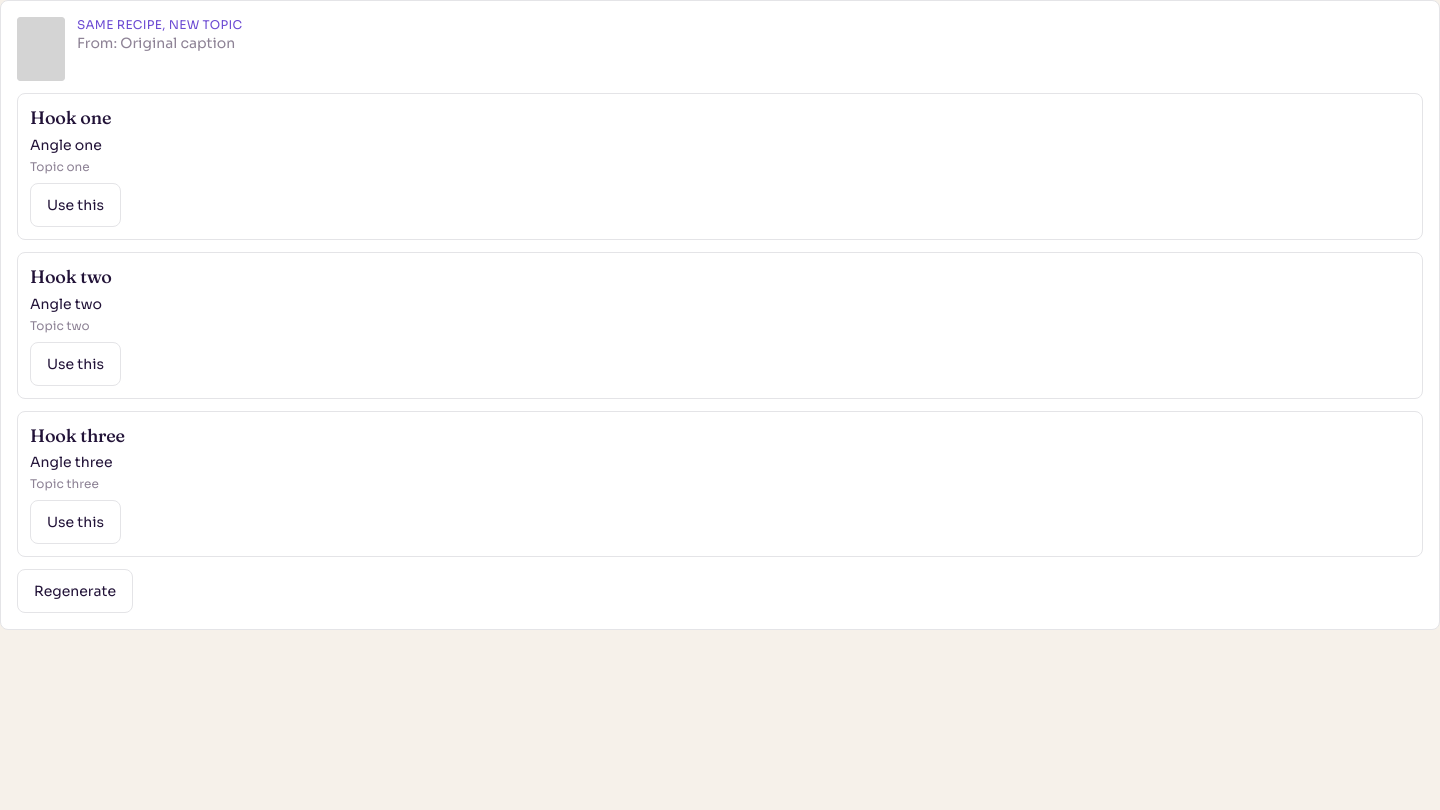
Scenario: RecreateCard › picks the option whose button was pressed and confirms
This screenshot has width=1440, height=810.
Click the button "Use this" below "Hook two": (76, 364) [30,342,121,386]
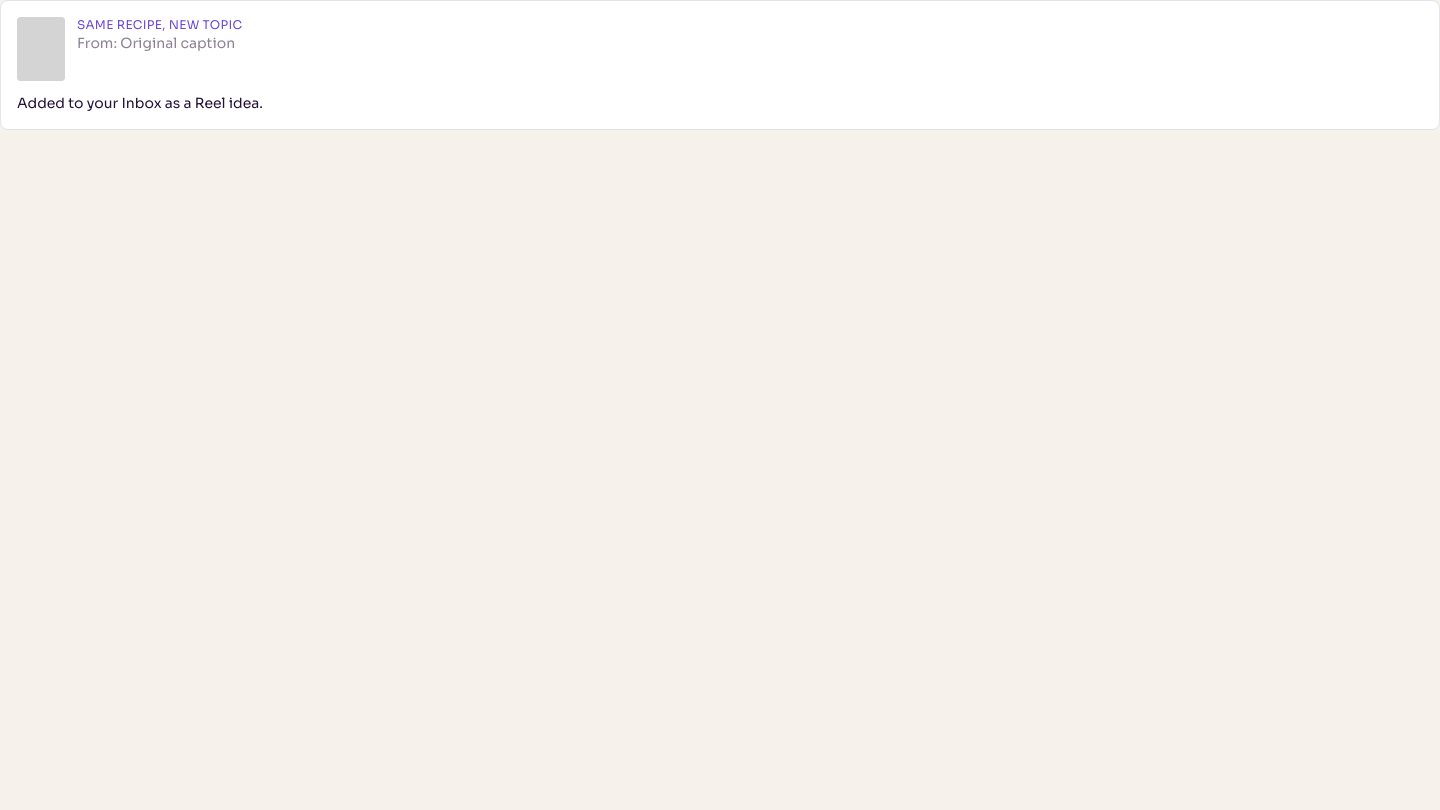
Expected: the message shows "Added to your Inbox", [17,94,263,112]
